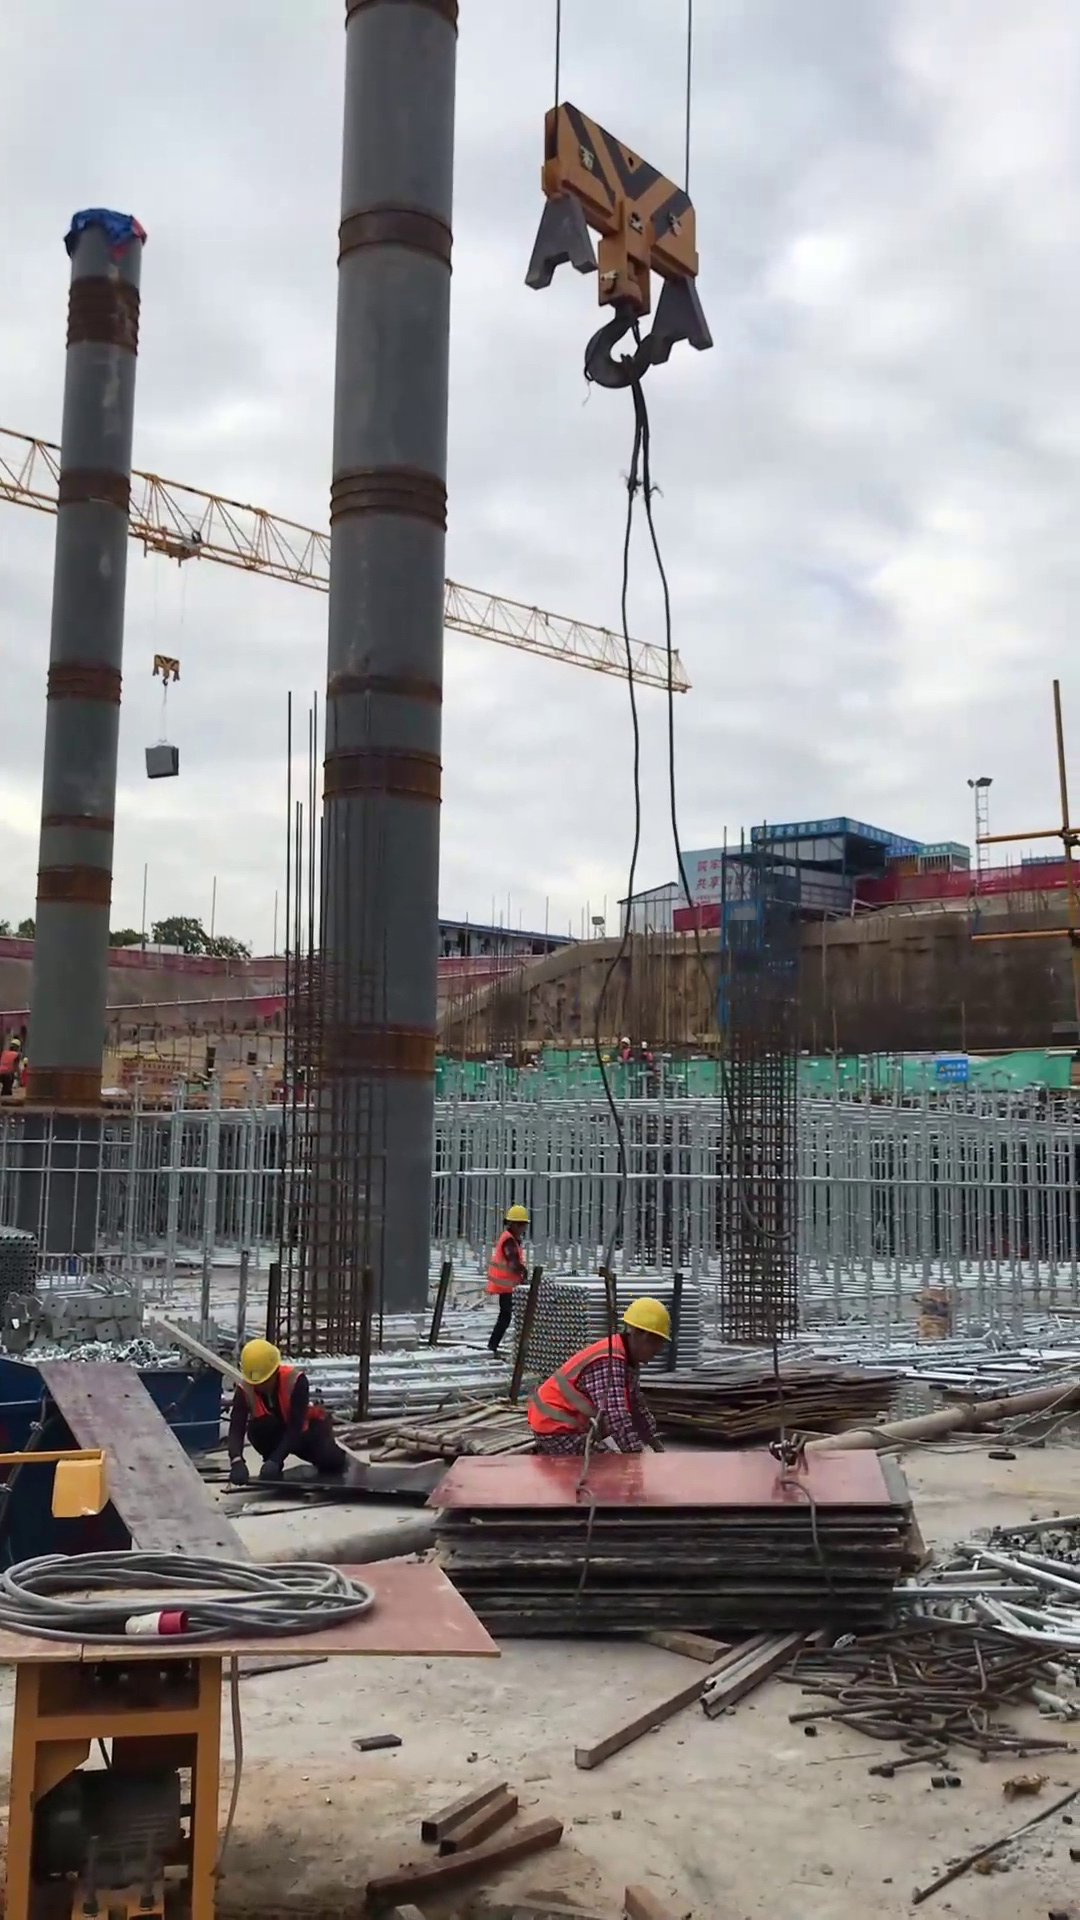board: (414, 1432, 947, 1658), (628, 1332, 914, 1465)
cutter: (1, 1541, 435, 1918)
fence: (897, 846, 1073, 910)
helmet: (614, 1296, 679, 1346), (232, 1336, 289, 1393), (497, 1201, 536, 1233)
hook: (504, 87, 733, 391), (149, 648, 183, 689)
person: (519, 1293, 683, 1468), (221, 1331, 357, 1499), (480, 1190, 550, 1363)
vest: (525, 1335, 632, 1439), (236, 1367, 333, 1436), (485, 1225, 533, 1297)
